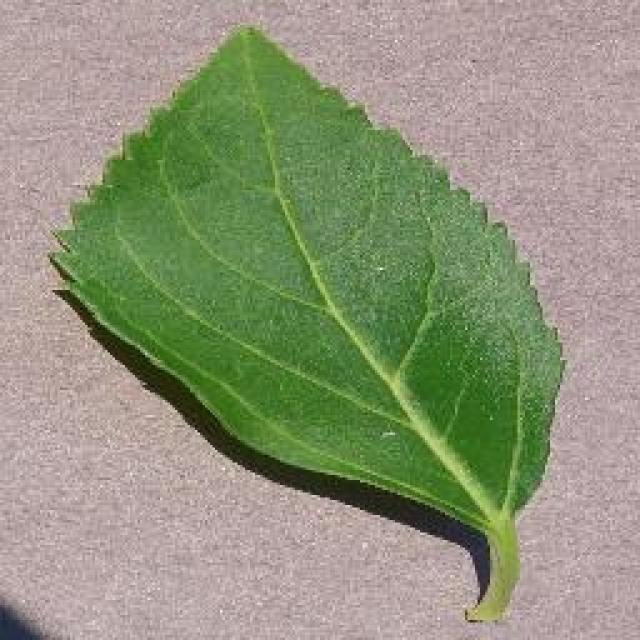Cherry___healthy: (99, 21, 556, 526)
